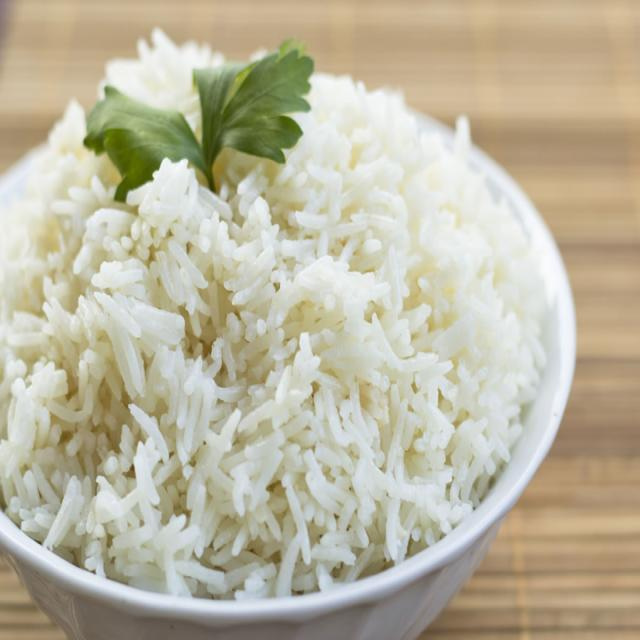arroz: (7, 40, 580, 634)
